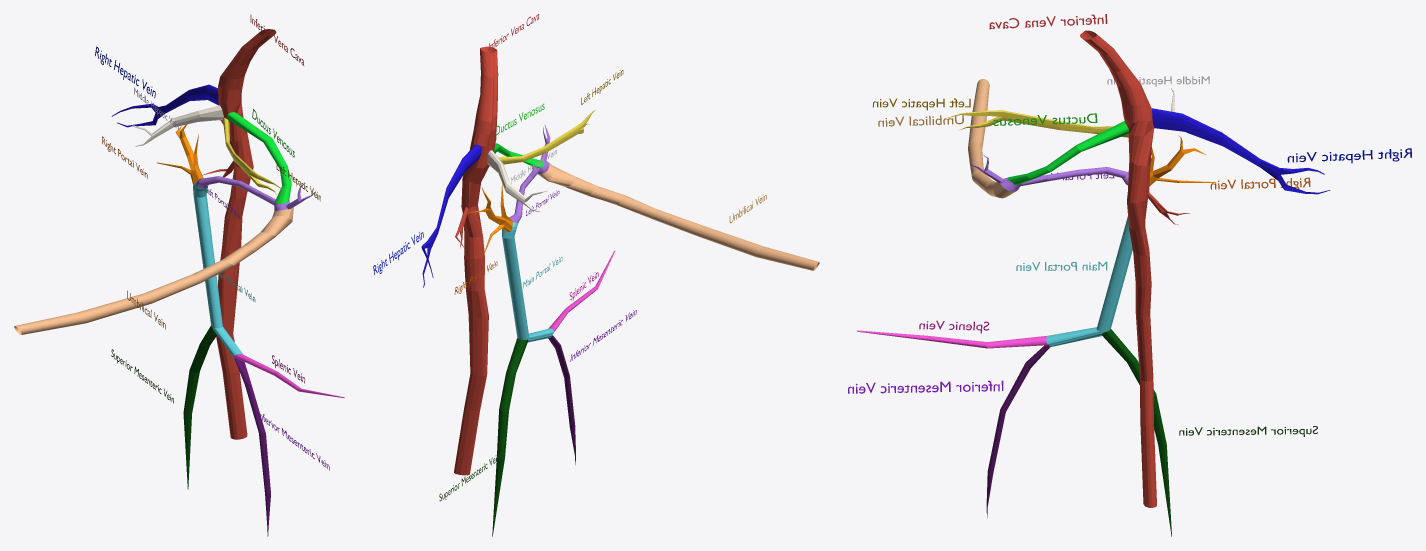
File: veinslabel.glb
3 views of the same model, side by side, from view 1: azimuth 30°, elevation 25°; view 2: azimuth 150°, elevation 25°; view 3: azimuth 270°, elevation 25° (orthographic). The views are drawn at different scales.
Parts seen in each view (by area): view 1: VEINS.001; view 2: VEINS.001; view 3: VEINS.001, Text.001.
Boxes of the visible parts, x1,y1,x2,y2 form: VEINS.001: (14, 29, 344, 536); VEINS.001: (421, 46, 819, 536); VEINS.001: (857, 30, 1330, 536); Text.001: (848, 380, 1003, 393).
Size of the model in its own units: 49.95 by 75.92 by 71.76.
